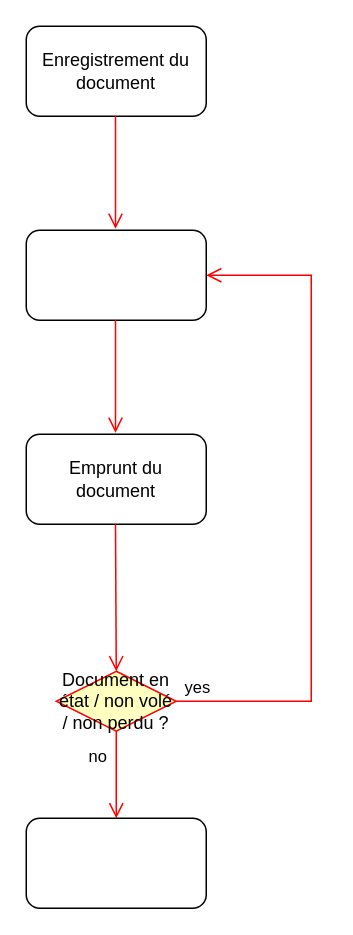
The diagram is 353 pixels wide and 935 high, and some of its shapes have lost their labels. Here are the shapes that lost their labels. From the top down, the centre of each, then its label:
pixel 115 274: Dispo à l'emprunt
pixel 115 862: Suppression du document de la BDD
